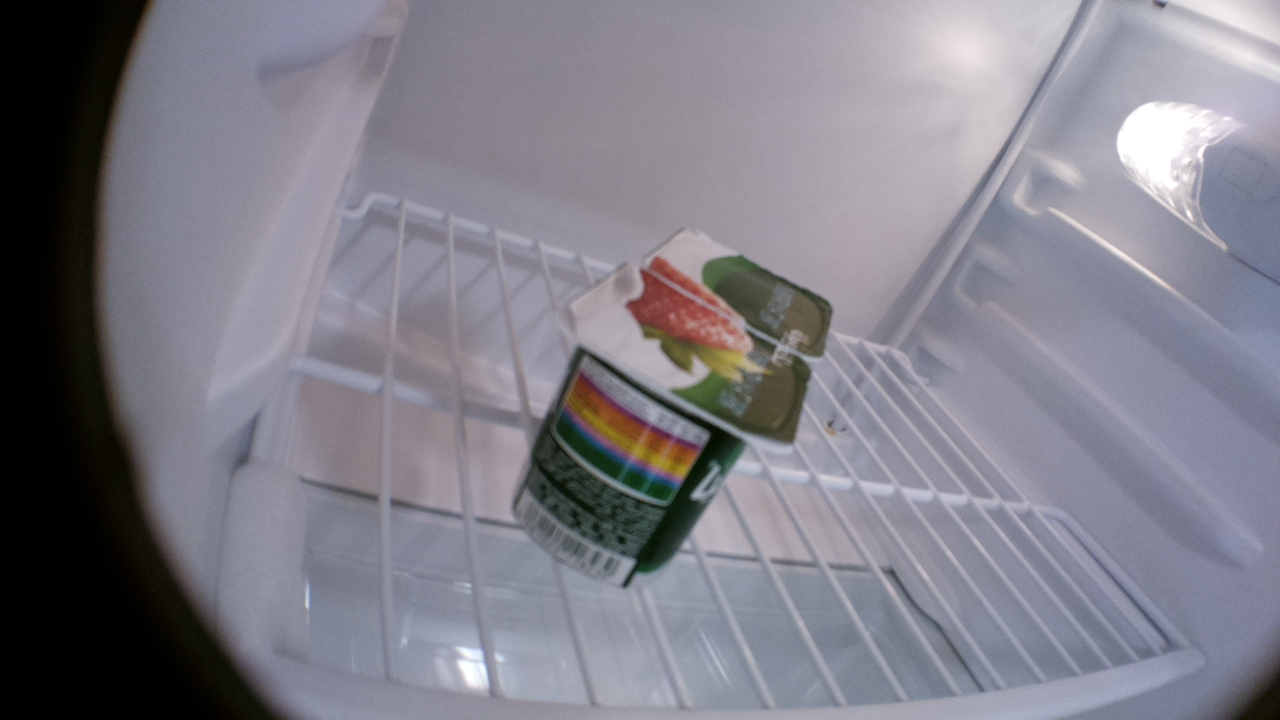yoghurt: (506, 259, 809, 594), (646, 223, 833, 361)
